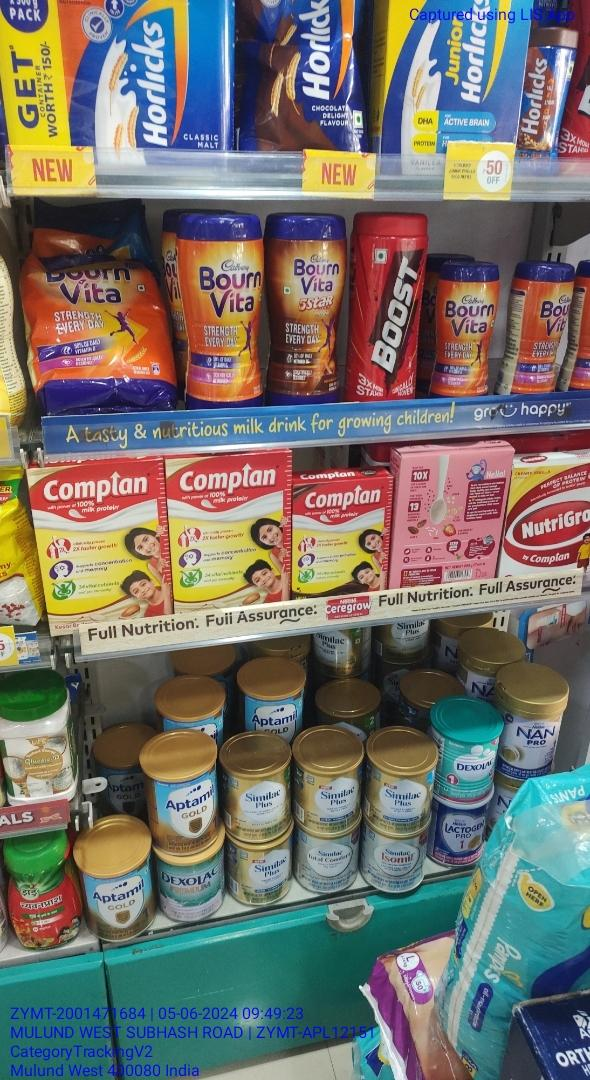BOURN_VITA_200_G_JAR: (438, 262, 494, 397), (502, 260, 556, 393)
BOURN_VITA_500_G_JAR: (181, 214, 265, 408)
BOURN_VITA_500_G_POUCH: (32, 252, 172, 407)
BOURN_VITA_FIVE_STAR_MAGIC_500_G_JAR: (269, 215, 341, 404)
COMPLAN_CHOCOLATE_200_GMS_PACK: (293, 483, 389, 602)
COMPLAN_KESAR_BADAM_500_GMS_PACK: (38, 470, 166, 622), (176, 453, 288, 616)
HORLICK_MALT_1_KG_CONTAINER: (0, 0, 228, 145)
